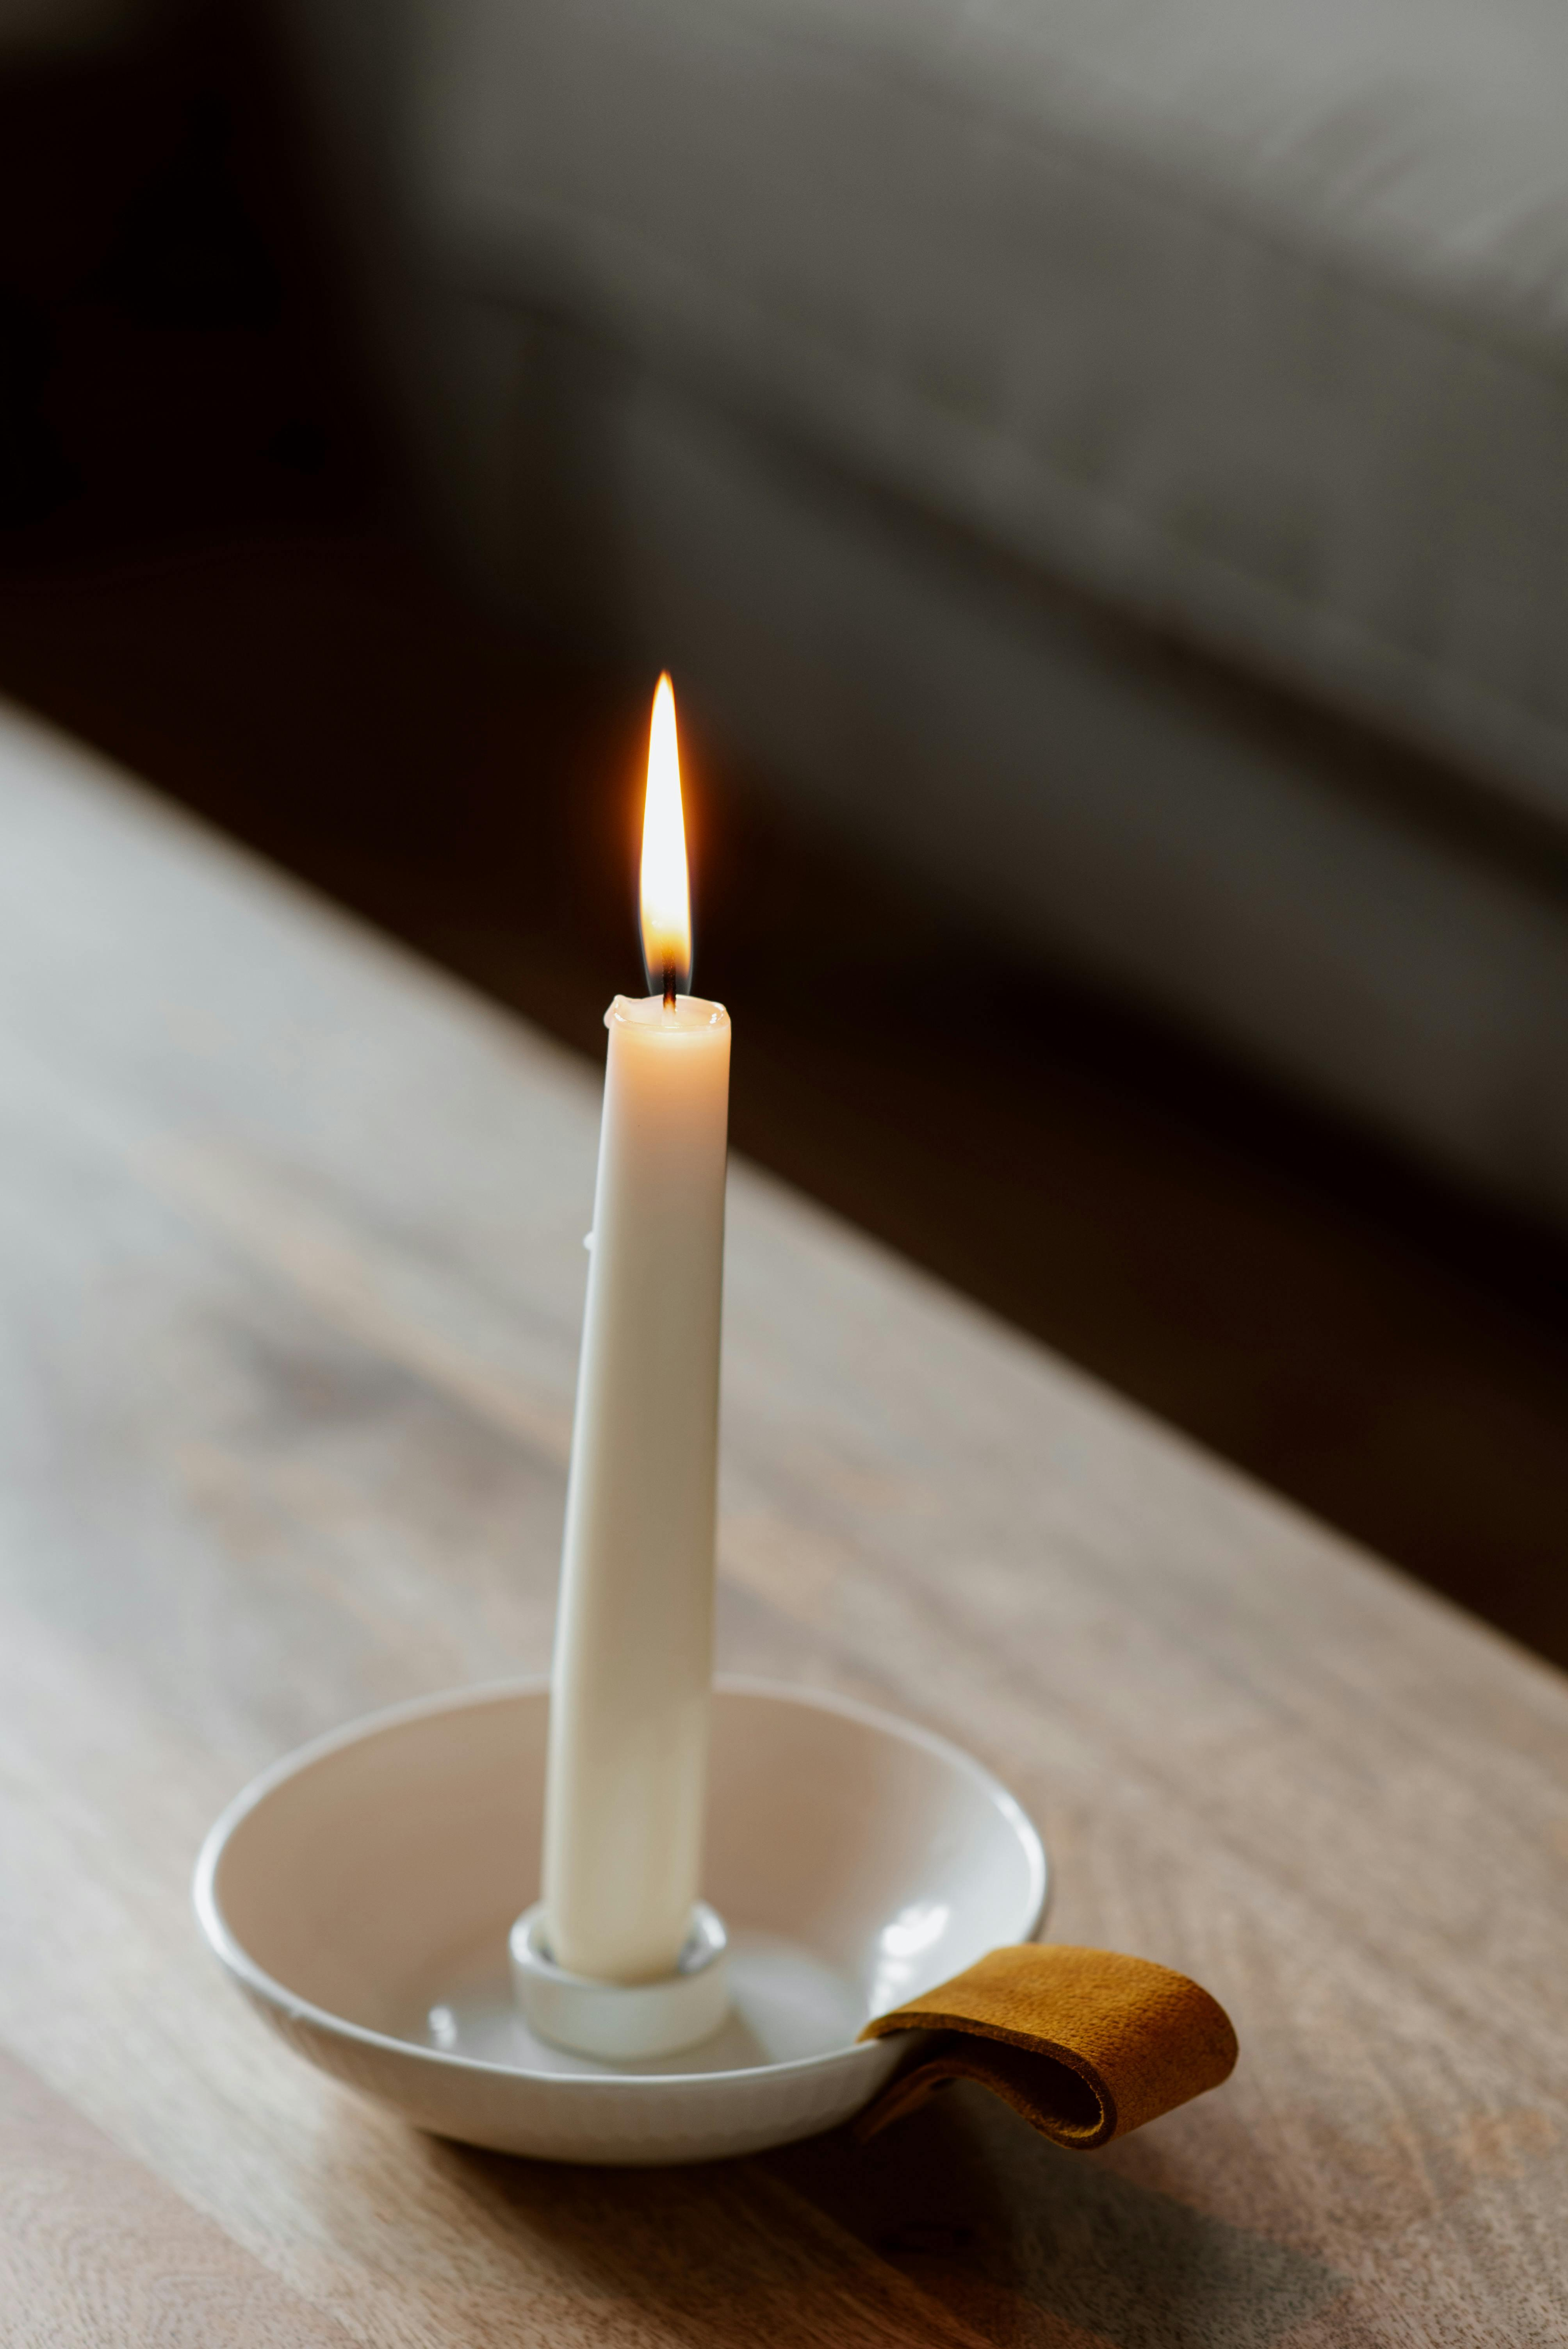Fire: (621, 656, 712, 1005)
